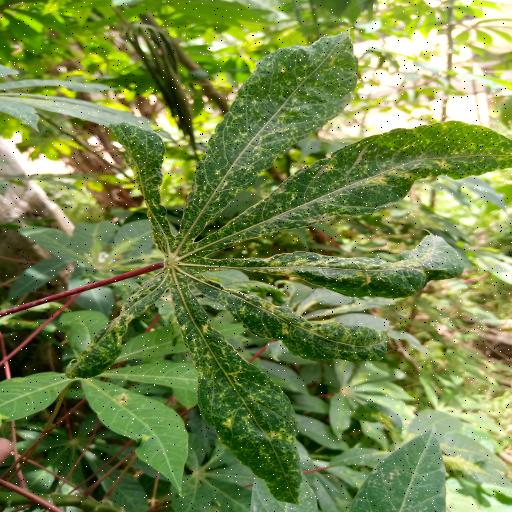Cassava_Healthy: (4, 304, 306, 490)
Cassava_Mosaic: (51, 29, 512, 505)
